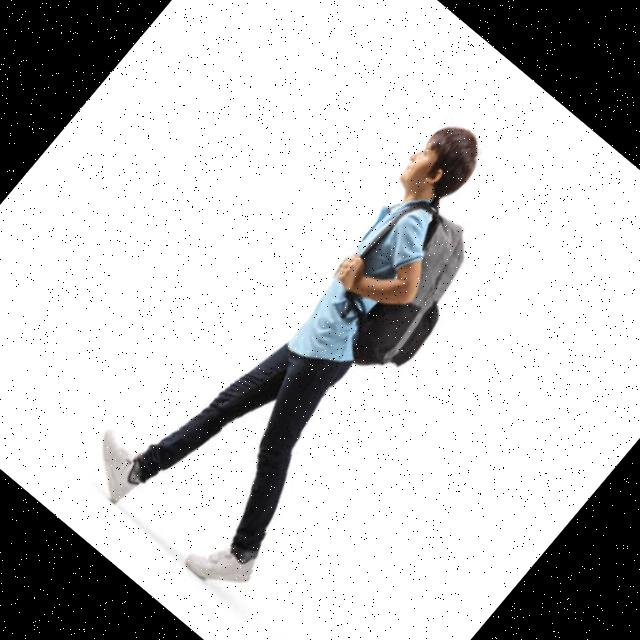Person: (72, 74, 562, 604)
